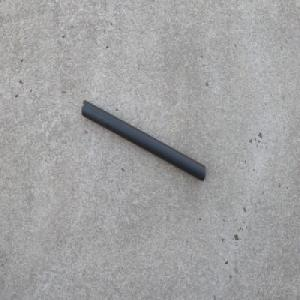LuggagePart: (80, 99, 207, 181)
